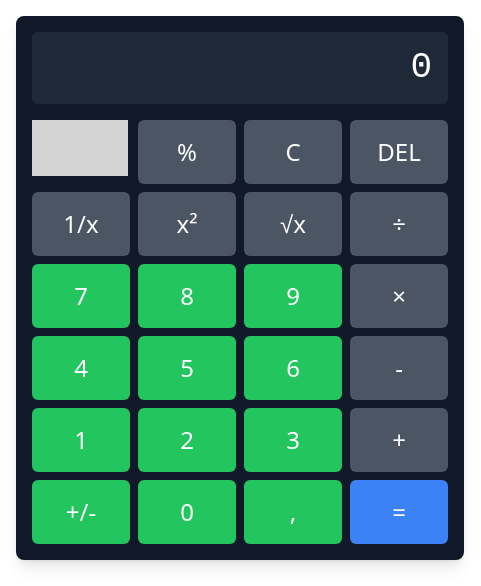
Test: Calculadora › canvia el signe de un número
Click the button with test id "digit-5" at (187, 368), box top-left (138, 336), bottom-right (236, 400)
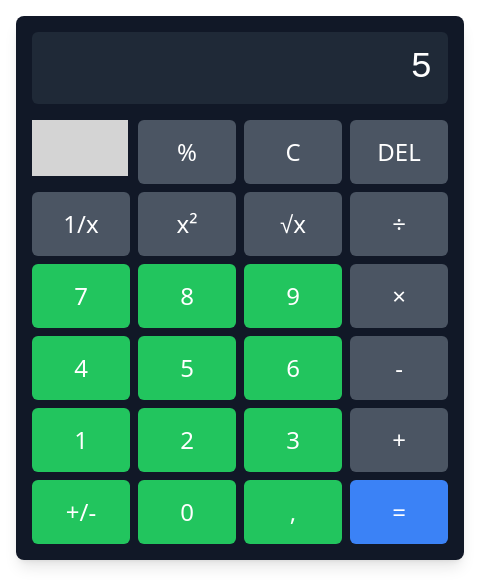
Click the button with test id "toggle-sign" at (81, 512), box top-left (32, 480), bottom-right (130, 544)
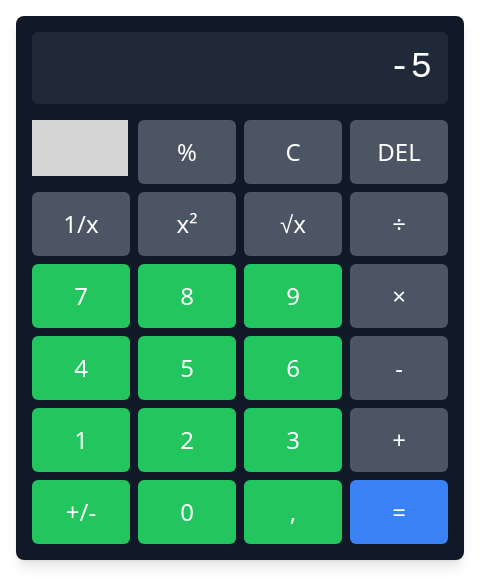
Check: the text "-5" is shown, box top-left (389, 47), bottom-right (432, 88)
